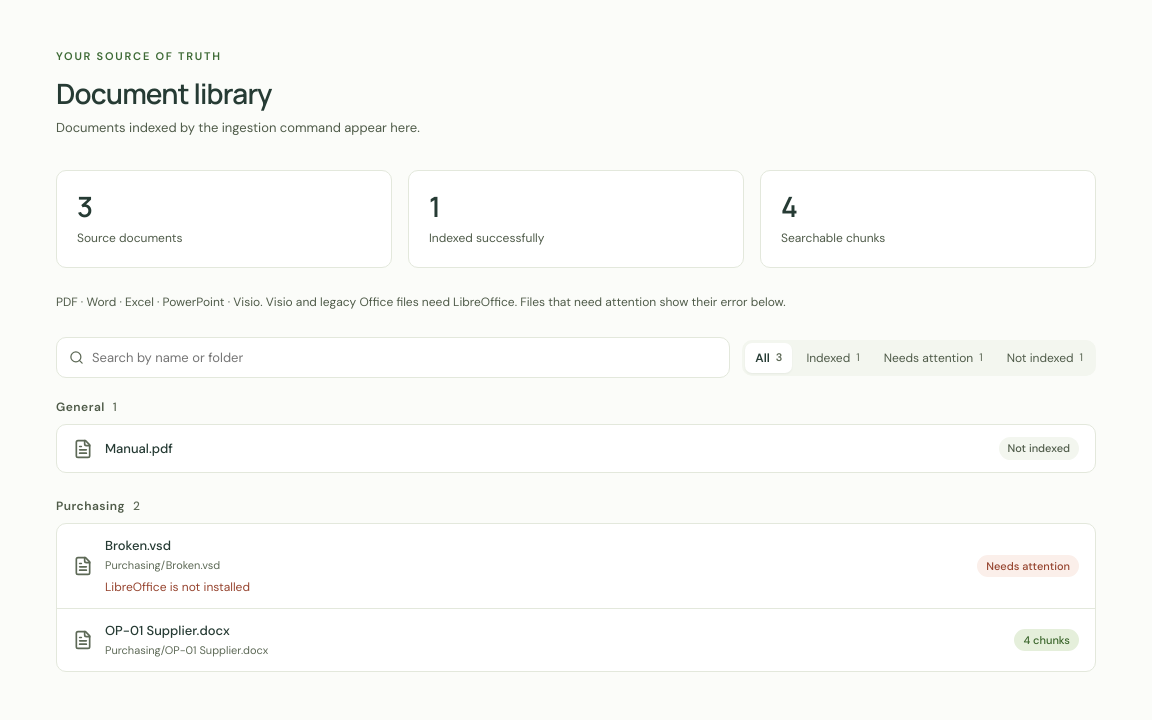
Scenario: LibraryView › groups by category, filters by status, and searches
expect the heading "Purchasing 2" is shown: met, box [56,498,140,514]
expect the text "4 chunks" is shown: met, box [1014,628,1079,651]
Click the button "Needs attention 1".
click(933, 358)  # box [874,342,993,372]
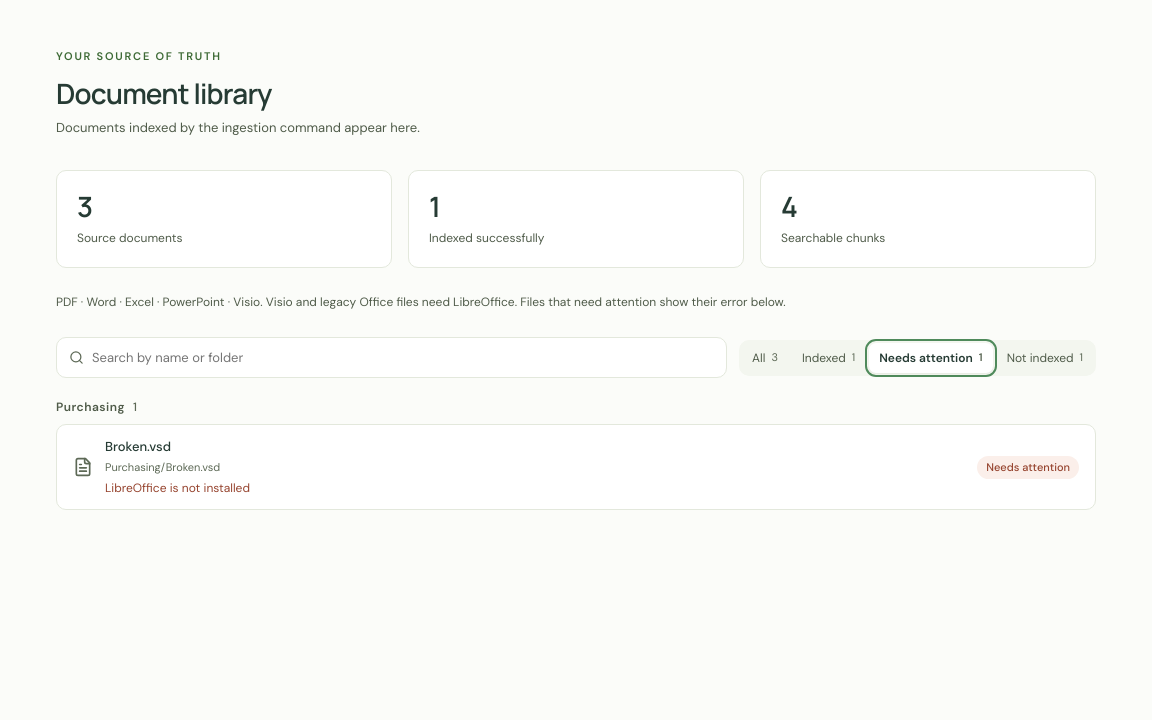
expect the text "Broken.vsd" is shown: met, box [105,438,171,455]
expect the text "OP-01 Supplier.docx" is gone: met
Click the button "All 3".
click(765, 358)  # box [742,342,788,372]
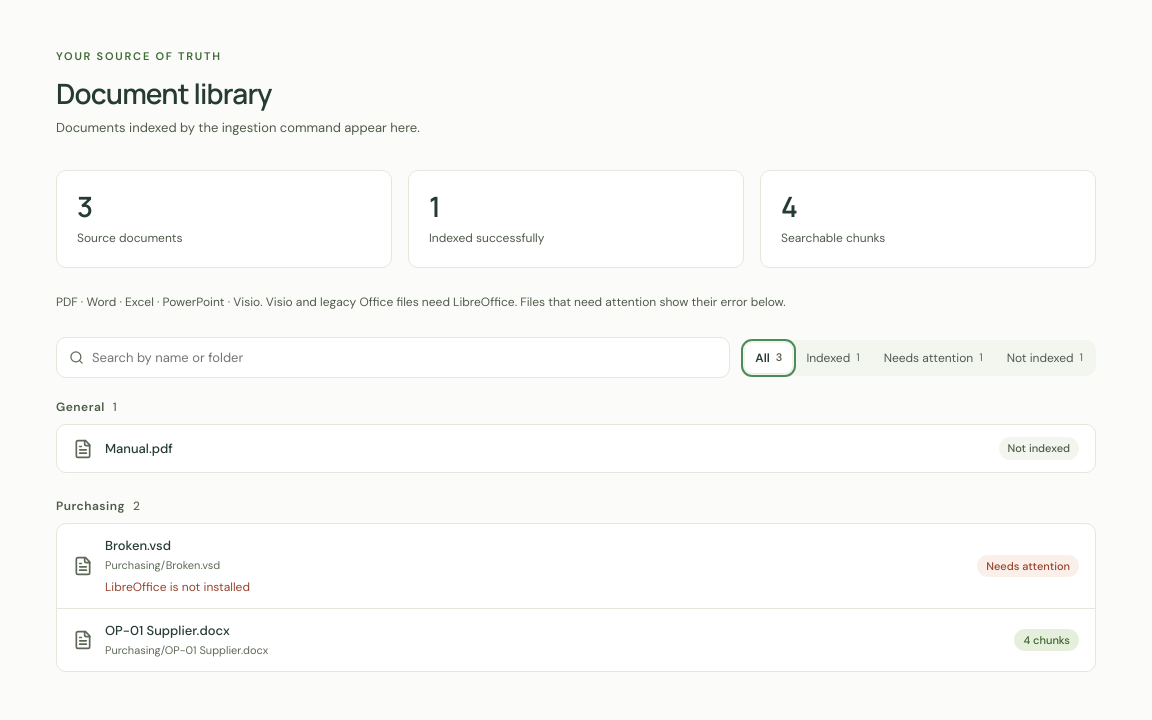
Type "manual" into the search field named "Search documents".
click(405, 358); type("manual")  # box [92,338,717,377]
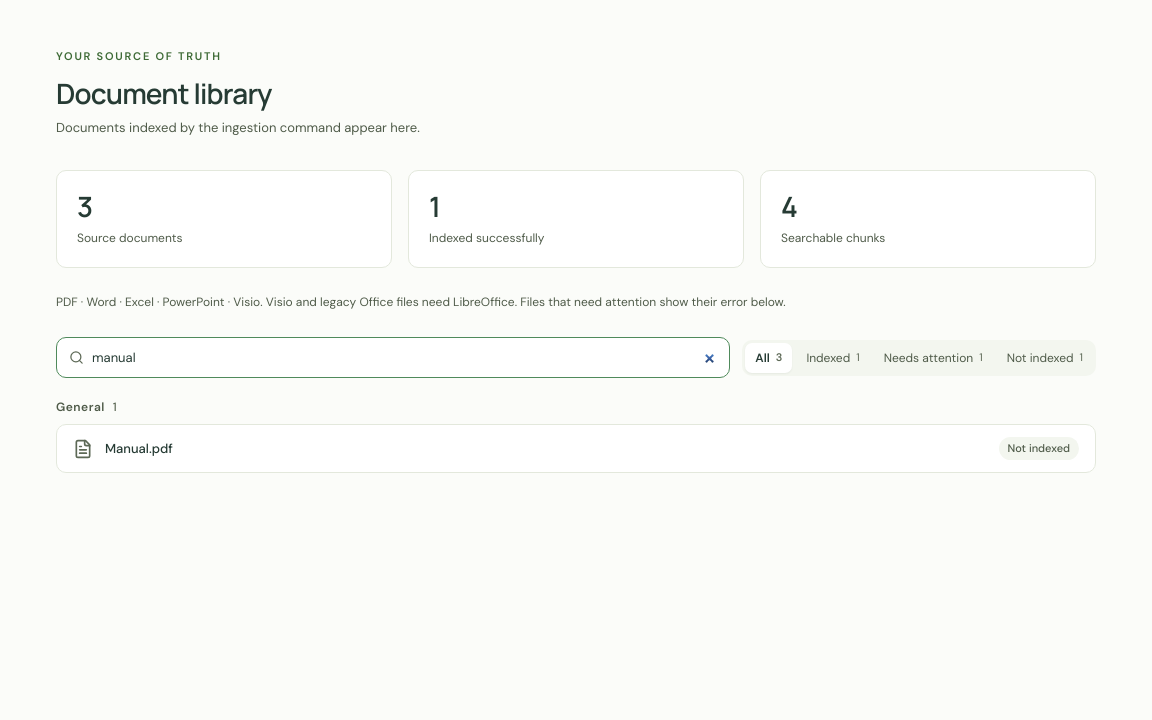
expect the text "Manual.pdf" is shown: met, box [105,440,173,457]
expect the text "Broken.vsd" is gone: met
